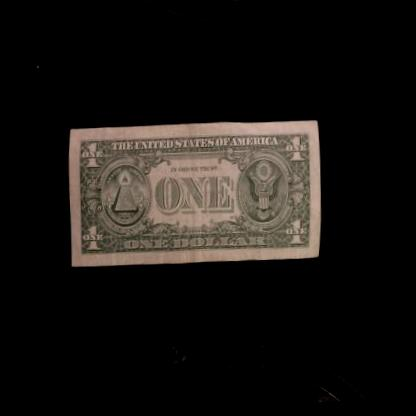dollar_back: (65, 115, 326, 275)
